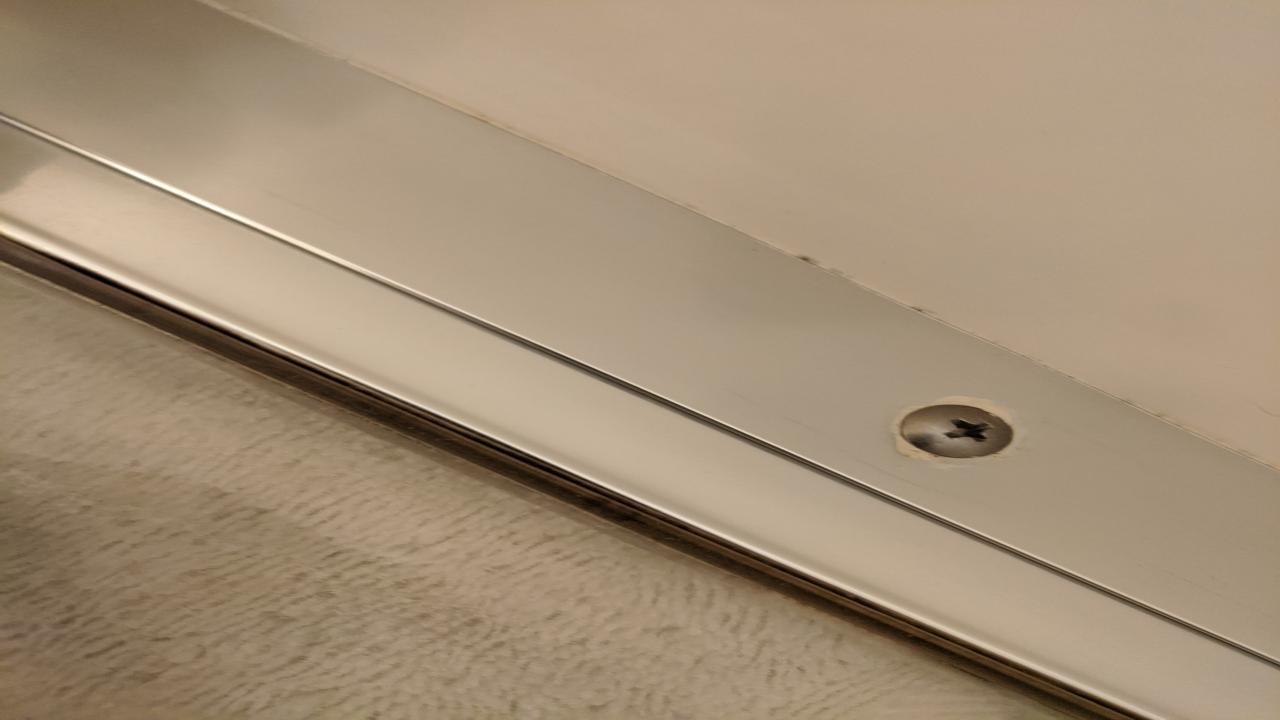CRS: (896, 404, 1020, 460)
